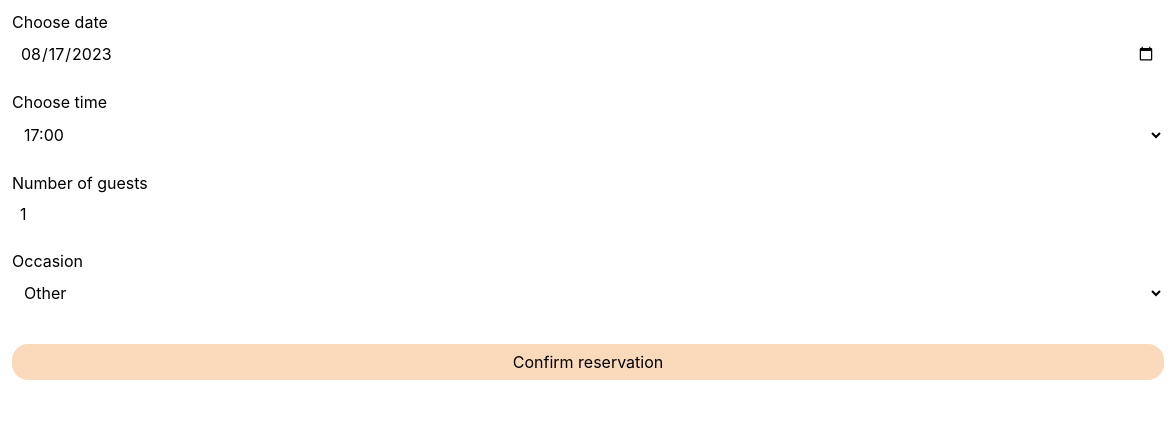
Guests input errors correctly.
Replace the text in the number field labelled "Number of guests" with "23" at (588, 214), box left=12, top=196, right=1164, bottom=232
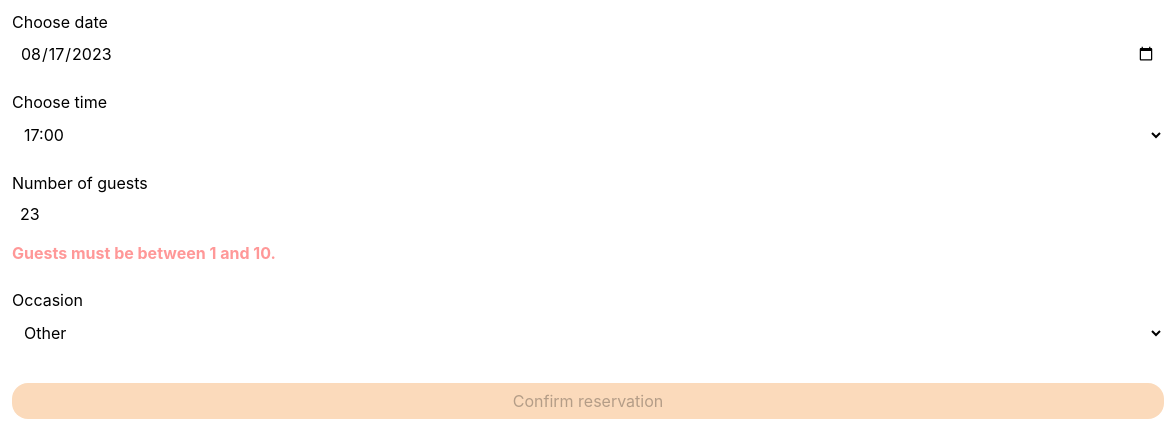
Expected: the text "Guests must be between 1 and 10." is shown, left=12, top=243, right=276, bottom=263
